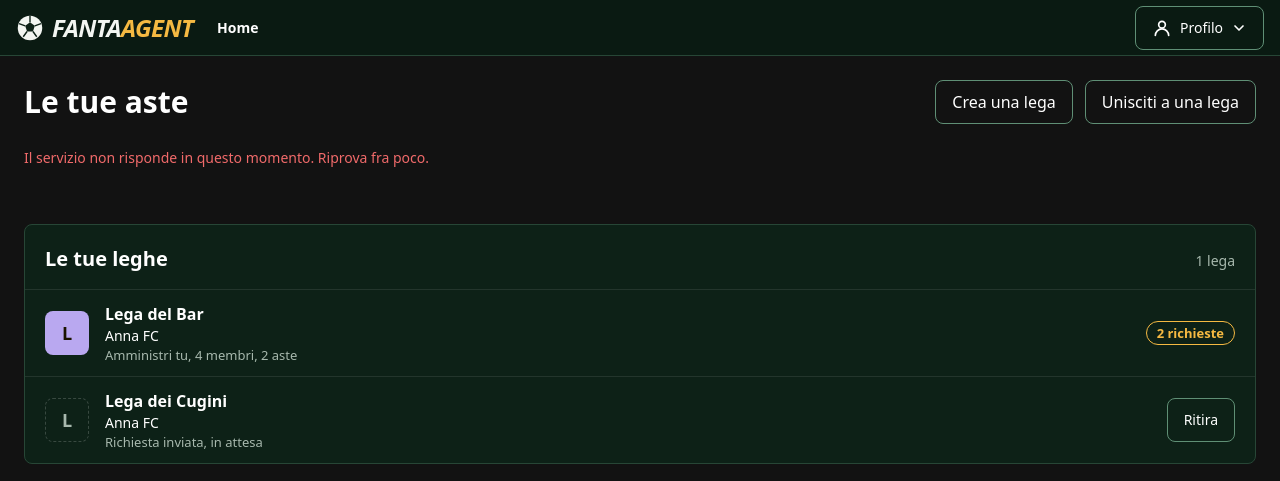
Test: LeaguesRoute › con un errore di pagina gia' detto, quello del ritiro non si annuncia
Expected: the message "Il servizio non risponde in questo momento. Riprova fra poco." is shown, top-left (24, 148), bottom-right (429, 167)
Click the button with aria-label "Ritira la richiesta per Lega dei Cugini" at (1201, 420), box top-left (1167, 398), bottom-right (1235, 442)
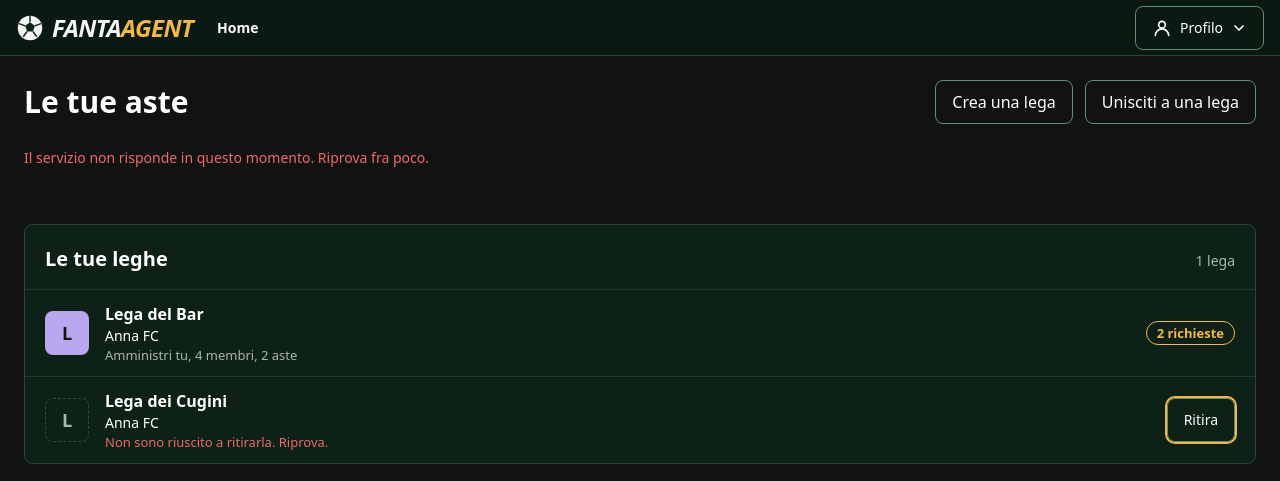
Expected: the number of messages is 1, top-left (24, 148), bottom-right (429, 167)
Result: the text "Non sono riuscito a ritirarla. Riprova." is shown at top-left (105, 433), bottom-right (328, 451)
